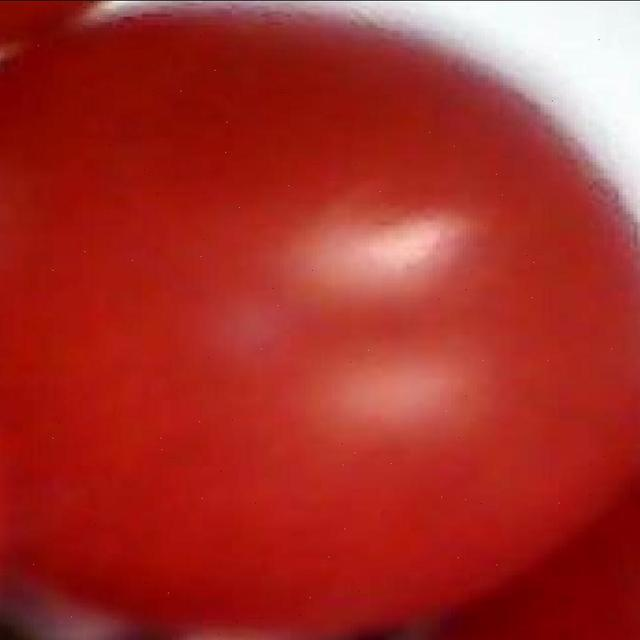Healthy Fruit: (0, 5, 423, 417)
